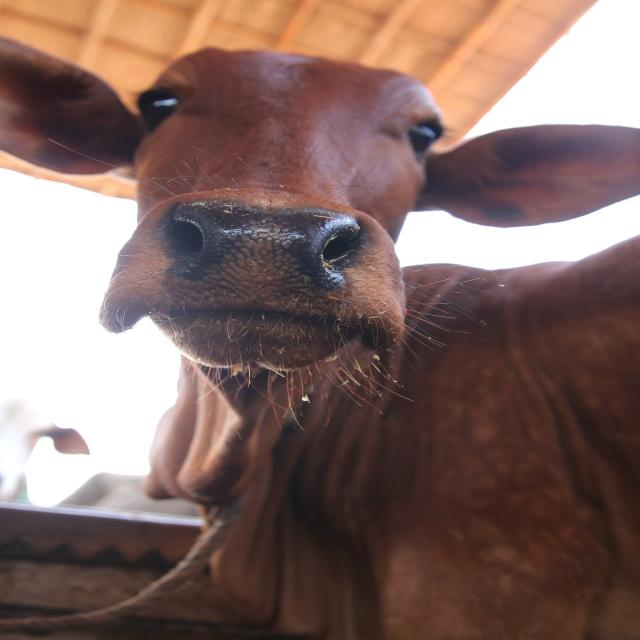muzzles: (146, 198, 383, 319)
